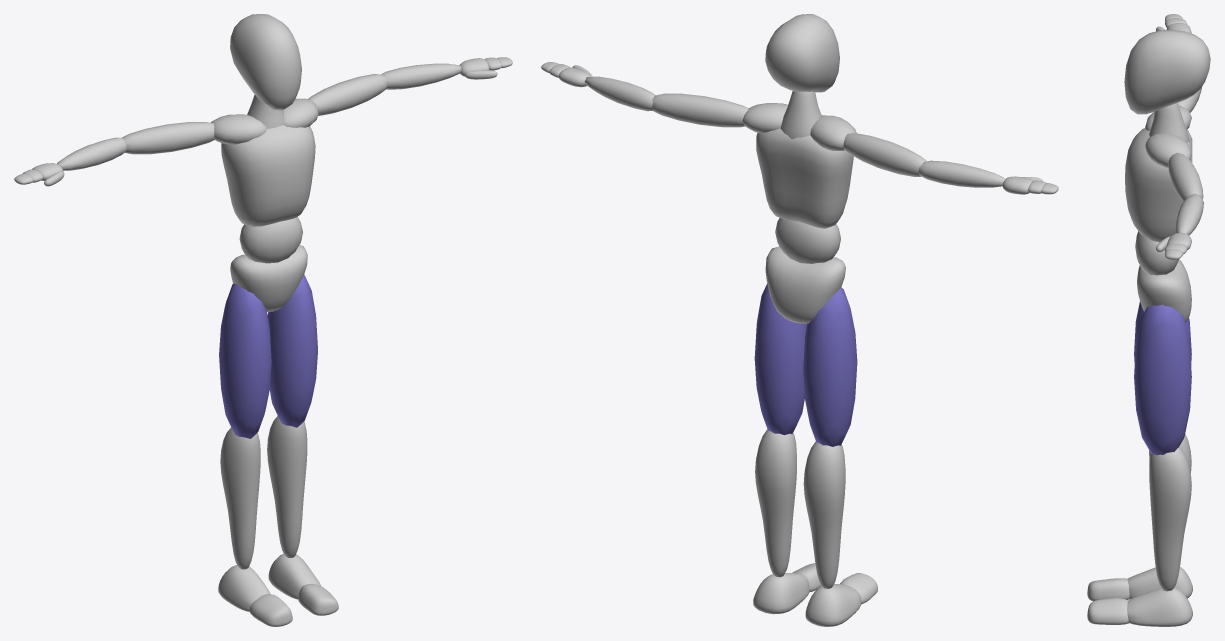
File: biped_rig_wat.obj
3 renders of one model, left to right at view 1: azimuth 30°, elevation 25°; view 2: azimuth 150°, elevation 25°; view 3: azimuth 270°, elevation 25°, orthographic. The views are drawn at different scales.
Parts seen in each view (by area): view 1: Chest, Thigh.R_Thigh, Thigh.L_Thigh, Head, Shin.R_Shin, Shin.L_Shin, Pelvis, UpperArm.R, Mid, UpperArm.L, Foot.R, Forearm.L (+7 smaller); view 2: Chest, Thigh.R_Thigh, Thigh.L_Thigh, Head, Shin.L_Shin, Shin.R_Shin, Pelvis, UpperArm.L, Mid, UpperArm.R, Foot.R, Foot.L (+5 smaller); view 3: Thigh.L_Thigh, Head, Shin.L_Shin, Chest, Foot.L, Pelvis, UpperArm.L, Mid, Shoulder.L, Toe.L, Foot.R, Neck (+7 smaller).
Part boxes in pixels (box(x1,y1,x2,y2)): Chest: box(221, 125, 315, 226); Thigh.R_Thigh: box(219, 283, 271, 438); Thigh.L_Thigh: box(267, 274, 317, 427); Head: box(230, 14, 301, 110); Shin.R_Shin: box(220, 427, 260, 569); Shin.L_Shin: box(267, 416, 307, 557); Pelvis: box(230, 245, 307, 312); UpperArm.R: box(122, 122, 214, 154); Mid: box(239, 217, 302, 263); UpperArm.L: box(308, 74, 387, 115); Foot.R: box(218, 565, 270, 611); Forearm.L: box(381, 63, 461, 89); Chest: box(756, 128, 853, 228); Thigh.R_Thigh: box(803, 287, 857, 446); Thigh.L_Thigh: box(754, 283, 806, 435); Head: box(765, 14, 839, 92); Shin.L_Shin: box(755, 429, 796, 577); Shin.R_Shin: box(803, 441, 845, 588); Pelvis: box(765, 246, 845, 323); UpperArm.L: box(652, 93, 748, 127); Mid: box(775, 218, 840, 263); UpperArm.R: box(843, 133, 926, 176); Foot.R: box(805, 584, 861, 626); Foot.L: box(753, 573, 809, 614); Thigh.L_Thigh: box(1134, 304, 1191, 455); Head: box(1124, 30, 1210, 114); Shin.L_Shin: box(1149, 447, 1191, 591); Chest: box(1125, 128, 1192, 242); Foot.L: box(1127, 588, 1192, 626); Pelvis: box(1137, 259, 1191, 322); UpperArm.L: box(1168, 152, 1203, 201); Mid: box(1135, 231, 1178, 275); Shoulder.L: box(1145, 133, 1191, 167); Toe.L: box(1087, 598, 1128, 624); Foot.R: box(1127, 567, 1192, 598); Neck: box(1149, 103, 1189, 142).
Size of the model in its own units: 1.81 by 2.01 by 0.3883.
